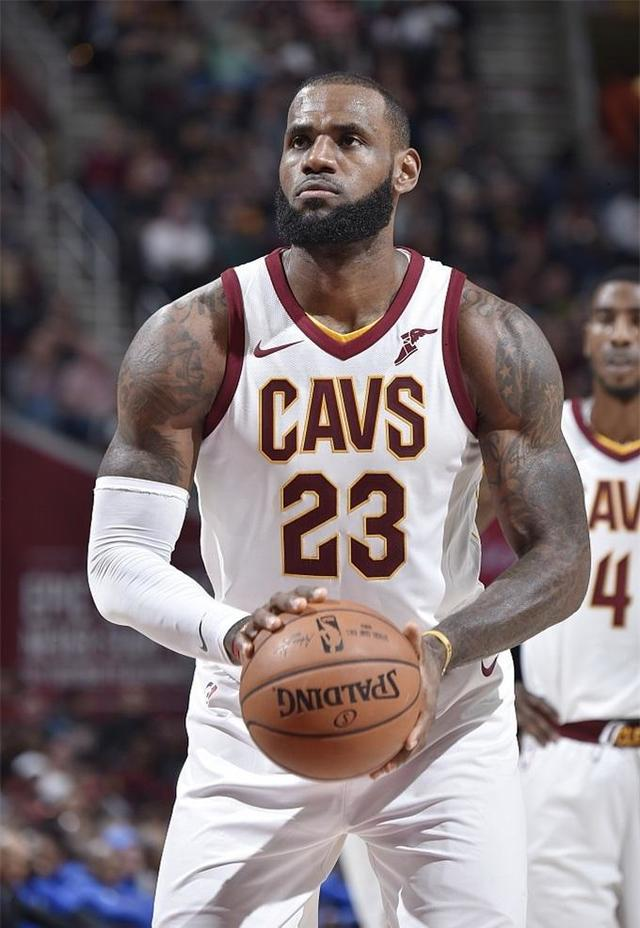ball: (238, 597, 428, 785)
